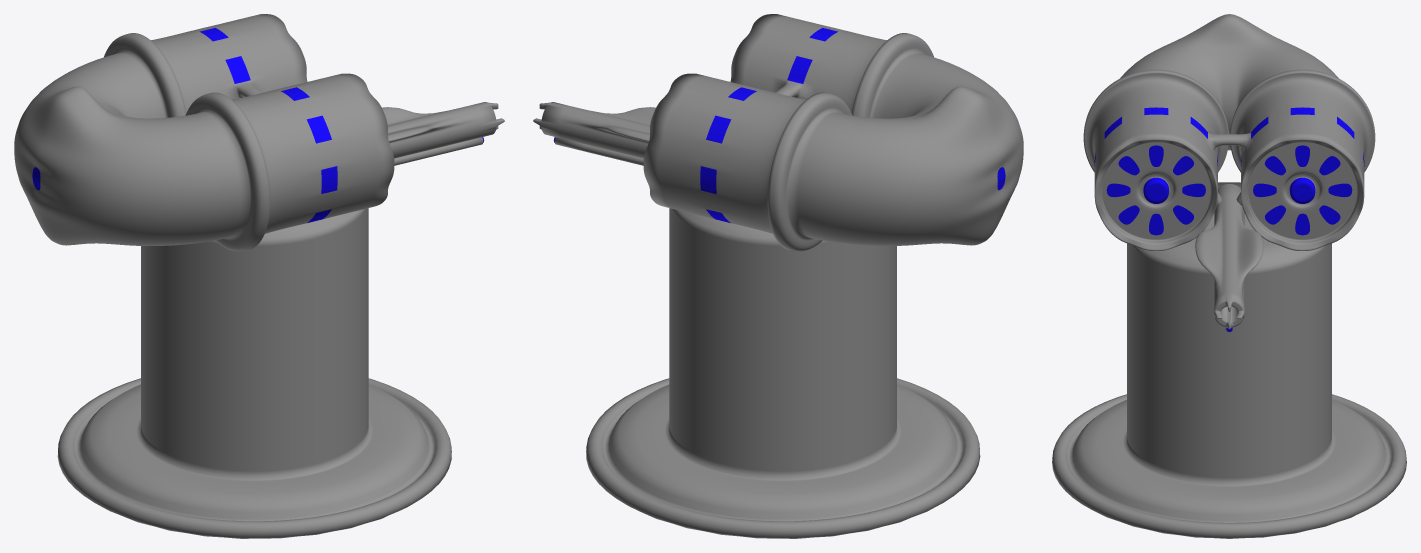
Rendered from Turret.fbx.
3 renders of one model, left to right at view 1: azimuth 30°, elevation 25°; view 2: azimuth 150°, elevation 25°; view 3: azimuth 270°, elevation 25°, orthographic. The views are drawn at different scales.
Visible parts, largest first — view 1: TurretBase, TurretGun, TurretGun.001; view 2: TurretBase, TurretGun, TurretGun.001; view 3: TurretBase, TurretGun, TurretGun.001.
Part boxes in pixels (x1=…): TurretBase: x1=57, y1=208, x2=451, y2=538; TurretGun: x1=14, y1=14, x2=394, y2=251; TurretGun.001: x1=382, y1=102, x2=504, y2=165; TurretBase: x1=586, y1=208, x2=980, y2=538; TurretGun: x1=643, y1=14, x2=1023, y2=251; TurretGun.001: x1=533, y1=102, x2=655, y2=165; TurretBase: x1=1052, y1=182, x2=1406, y2=538; TurretGun: x1=1083, y1=14, x2=1375, y2=250; TurretGun.001: x1=1195, y1=184, x2=1263, y2=332.
Bounding box in the file's own units: 269 × 231 × 199.
